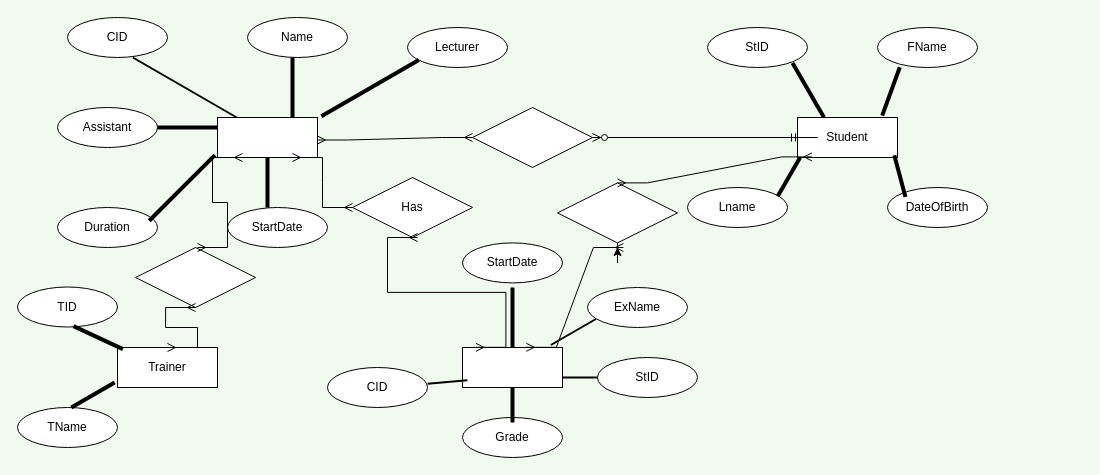
Image size: 1100x475. Some labels were removed from this diagram. Each missing label, with the box of its shape:
Course: (216, 116, 318, 158)
Exam: (462, 346, 562, 388)
Gives: (556, 182, 678, 243)
Studies: (472, 106, 592, 168)
Teaches: (135, 246, 256, 308)
